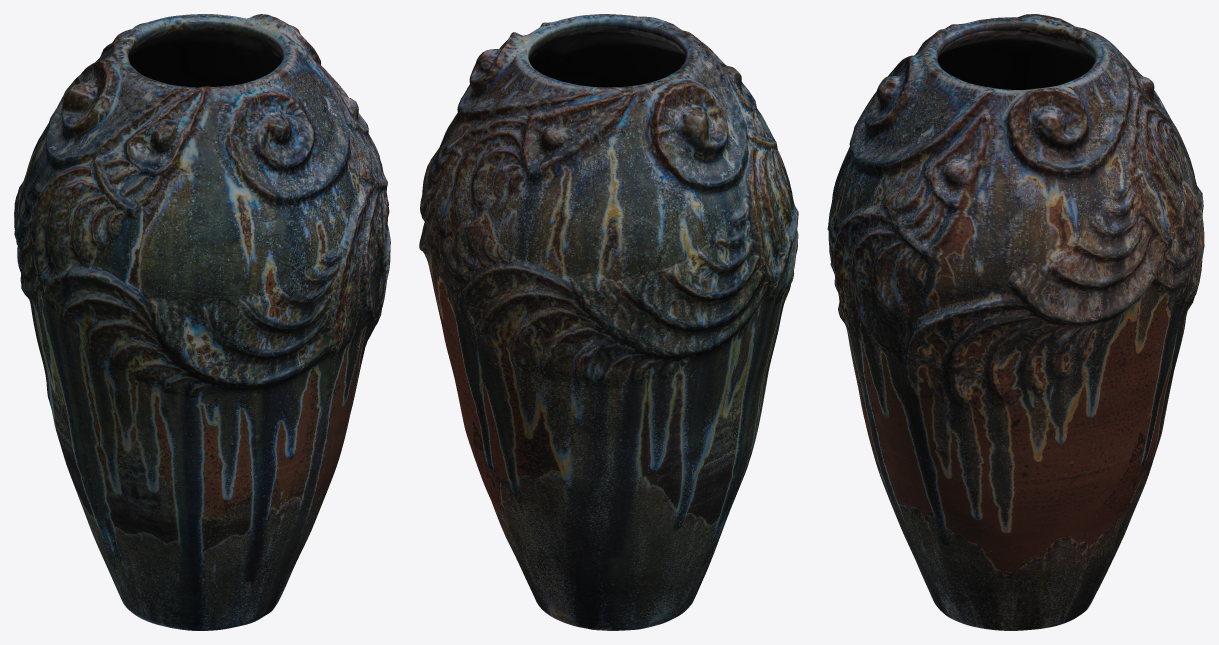
The model's file is .tmp_q_0cyk0_.glb.
3 renders of one model, left to right at view 1: azimuth 30°, elevation 25°; view 2: azimuth 150°, elevation 25°; view 3: azimuth 270°, elevation 25°, orthographic.
Parts seen in each view (by area): view 1: 1.obj; view 2: 1.obj; view 3: 1.obj.
Part boxes in pixels (left/top/right/bottom): 1.obj: left=14, top=14, right=390, bottom=630; 1.obj: left=419, top=14, right=798, bottom=630; 1.obj: left=827, top=14, right=1204, bottom=630.
Size of the model in its own units: 1.8 by 2.86 by 1.77.
Materials: 1 (1 with a texture image).
